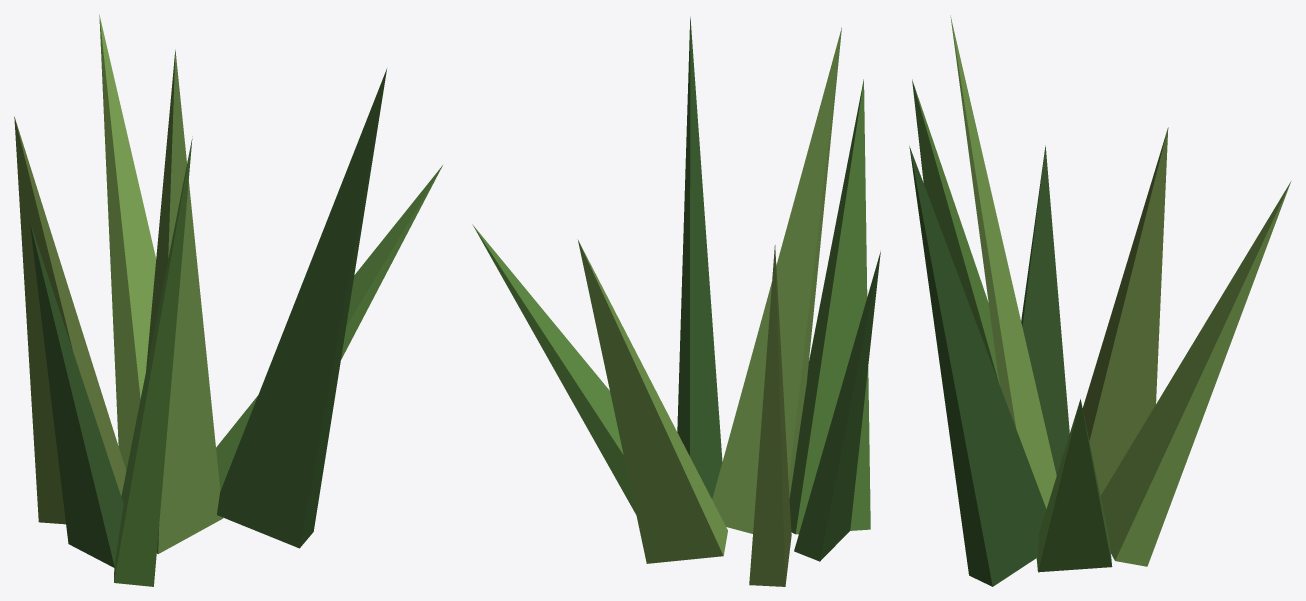
Rendered from grass_tuft.glb.
3 renders of one model, left to right at view 1: azimuth 30°, elevation 25°; view 2: azimuth 150°, elevation 25°; view 3: azimuth 270°, elevation 25°, orthographic. The views are drawn at different scales.
Parts seen in each view (by area): view 1: grass_tuft; view 2: grass_tuft; view 3: grass_tuft.
Part boxes in pixels (x1,y1,x2,y2): grass_tuft: (14, 14, 442, 586); grass_tuft: (472, 17, 880, 586); grass_tuft: (909, 15, 1291, 586).
Size of the model in its own units: 0.6214 by 0.7447 by 0.5127.
Materials: 1 (1 with a texture image).
